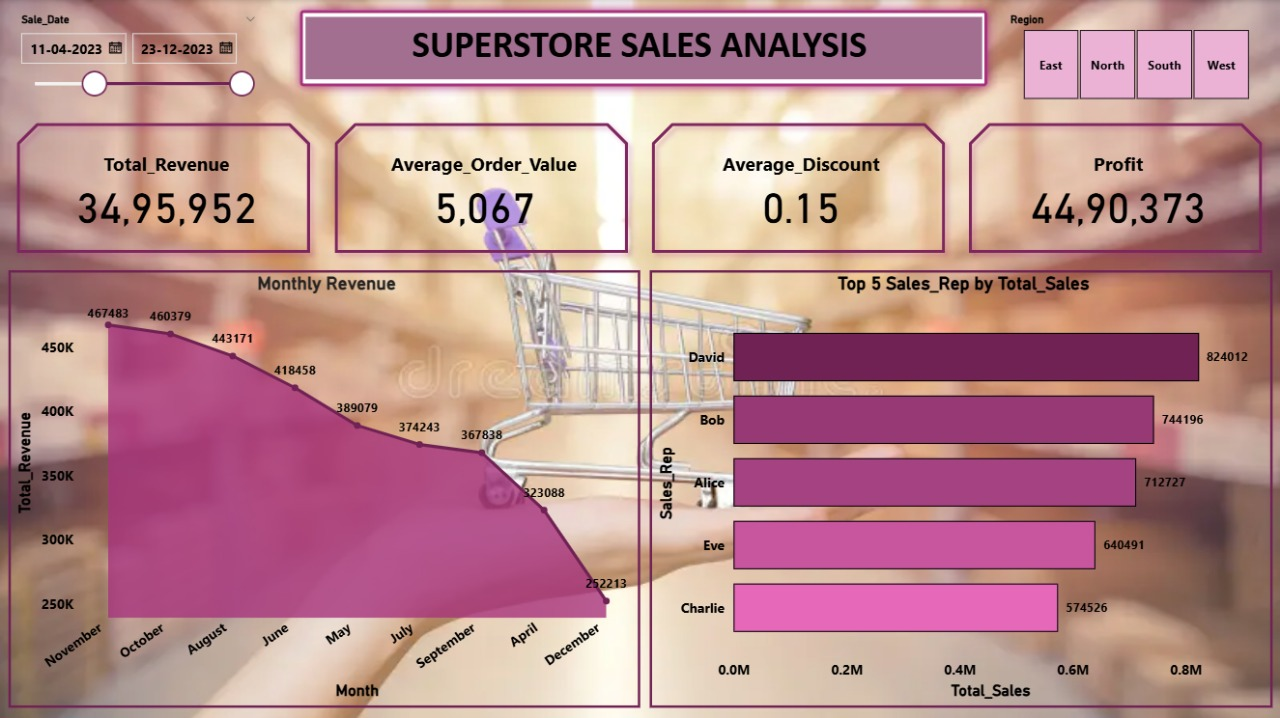

What the dashboard file says about the page in this screenshot:
{"tool":"powerbi","page":{"name":"Page 1","canvas":[1280,720],"ordinal":0},"visuals":[{"type":"cardVisual","fields":{"Data":["sales.Total_Revenue","sales.Average_Order_Value","sales.Average_Discount","sales.Profit"]},"box":[0,106.2,1280,164.1],"z":0},{"type":"shape","box":[289.5,0,707,96.5],"z":1000},{"type":"textbox","box":[305.2,16.9,675.6,62.7],"z":2000},{"type":"lineChart","title":"Monthly Revenue","fields":{"Y":["sales.Total_Revenue"],"Category":["sales.month"]},"box":[8.4,270.2,631,437.9],"z":3000},{"type":"slicer","fields":{"Values":["sales.Sale_Date"]},"box":[8.4,8.4,259.4,97.7],"z":4000},{"type":"barChart","title":"Top 5 Sales_Rep by Total_Sales","fields":{"Y":["sales.Total_Revenue"],"Category":["sales.Sales_Rep"]},"box":[649.1,270.2,622.5,437.9],"z":5000},{"type":"slicer","fields":{"Values":["sales.Region"]},"box":[996.5,8.4,275.1,97.7],"z":6000}]}

Visuals, with their boxes in screenshot pixels (x1, y1, x2, y2), scaled from the page's 1280x720 canvas onto the 1280x718 screenshot:
cardVisual - sales.Total_Revenue x sales.Average_Order_Value: [x1=0, y1=106, x2=1279, y2=270]
shape: [x1=290, y1=0, x2=996, y2=96]
textbox: [x1=305, y1=17, x2=981, y2=79]
"Monthly Revenue" lineChart: [x1=8, y1=269, x2=639, y2=706]
slicer - sales.Sale_Date: [x1=8, y1=8, x2=268, y2=106]
"Top 5 Sales_Rep by Total_Sales" barChart: [x1=649, y1=269, x2=1272, y2=706]
slicer - sales.Region: [x1=996, y1=8, x2=1272, y2=106]
